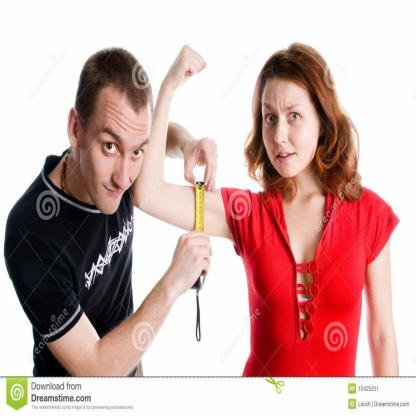face: (89, 90, 154, 216), (261, 81, 319, 179)
